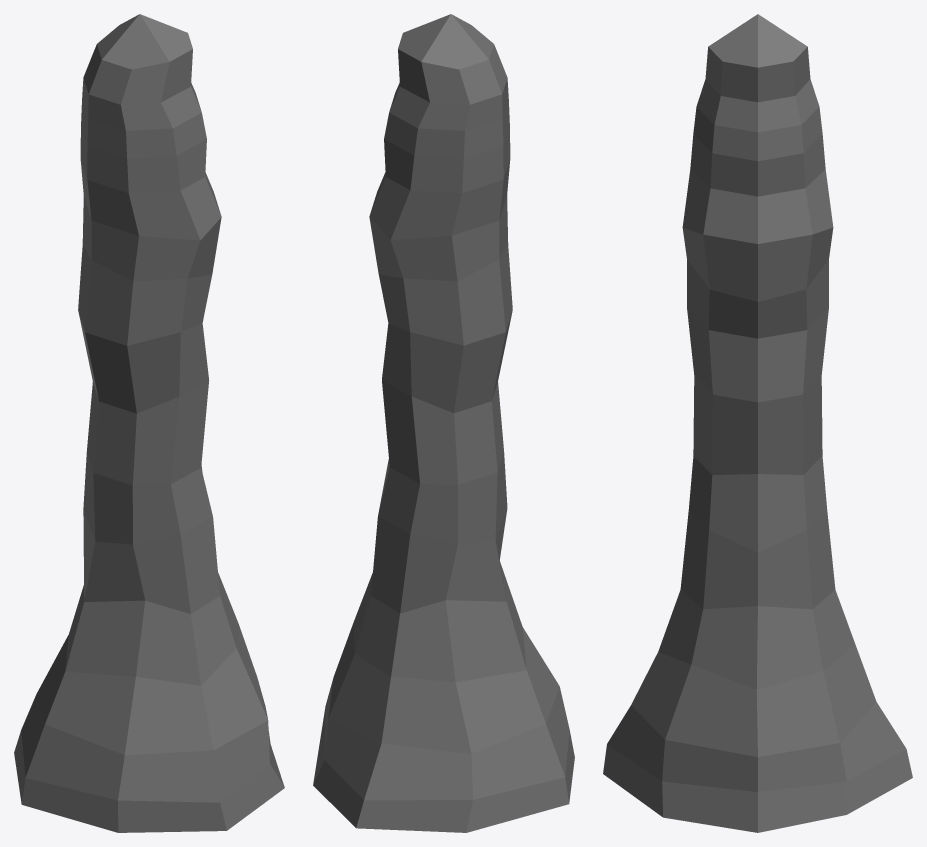
The model's file is stalagmite2.fbx.
3 views of the same model, side by side, from view 1: azimuth 30°, elevation 25°; view 2: azimuth 150°, elevation 25°; view 3: azimuth 270°, elevation 25° (orthographic).
Parts seen in each view (by area): view 1: Cube; view 2: Cube; view 3: Cube.
Part boxes in pixels (x1,y1,x2,y2): Cube: [14, 14, 284, 832]; Cube: [313, 14, 574, 832]; Cube: [603, 14, 912, 832].
Bounding box in the file's own units: 227 × 667 × 247.
